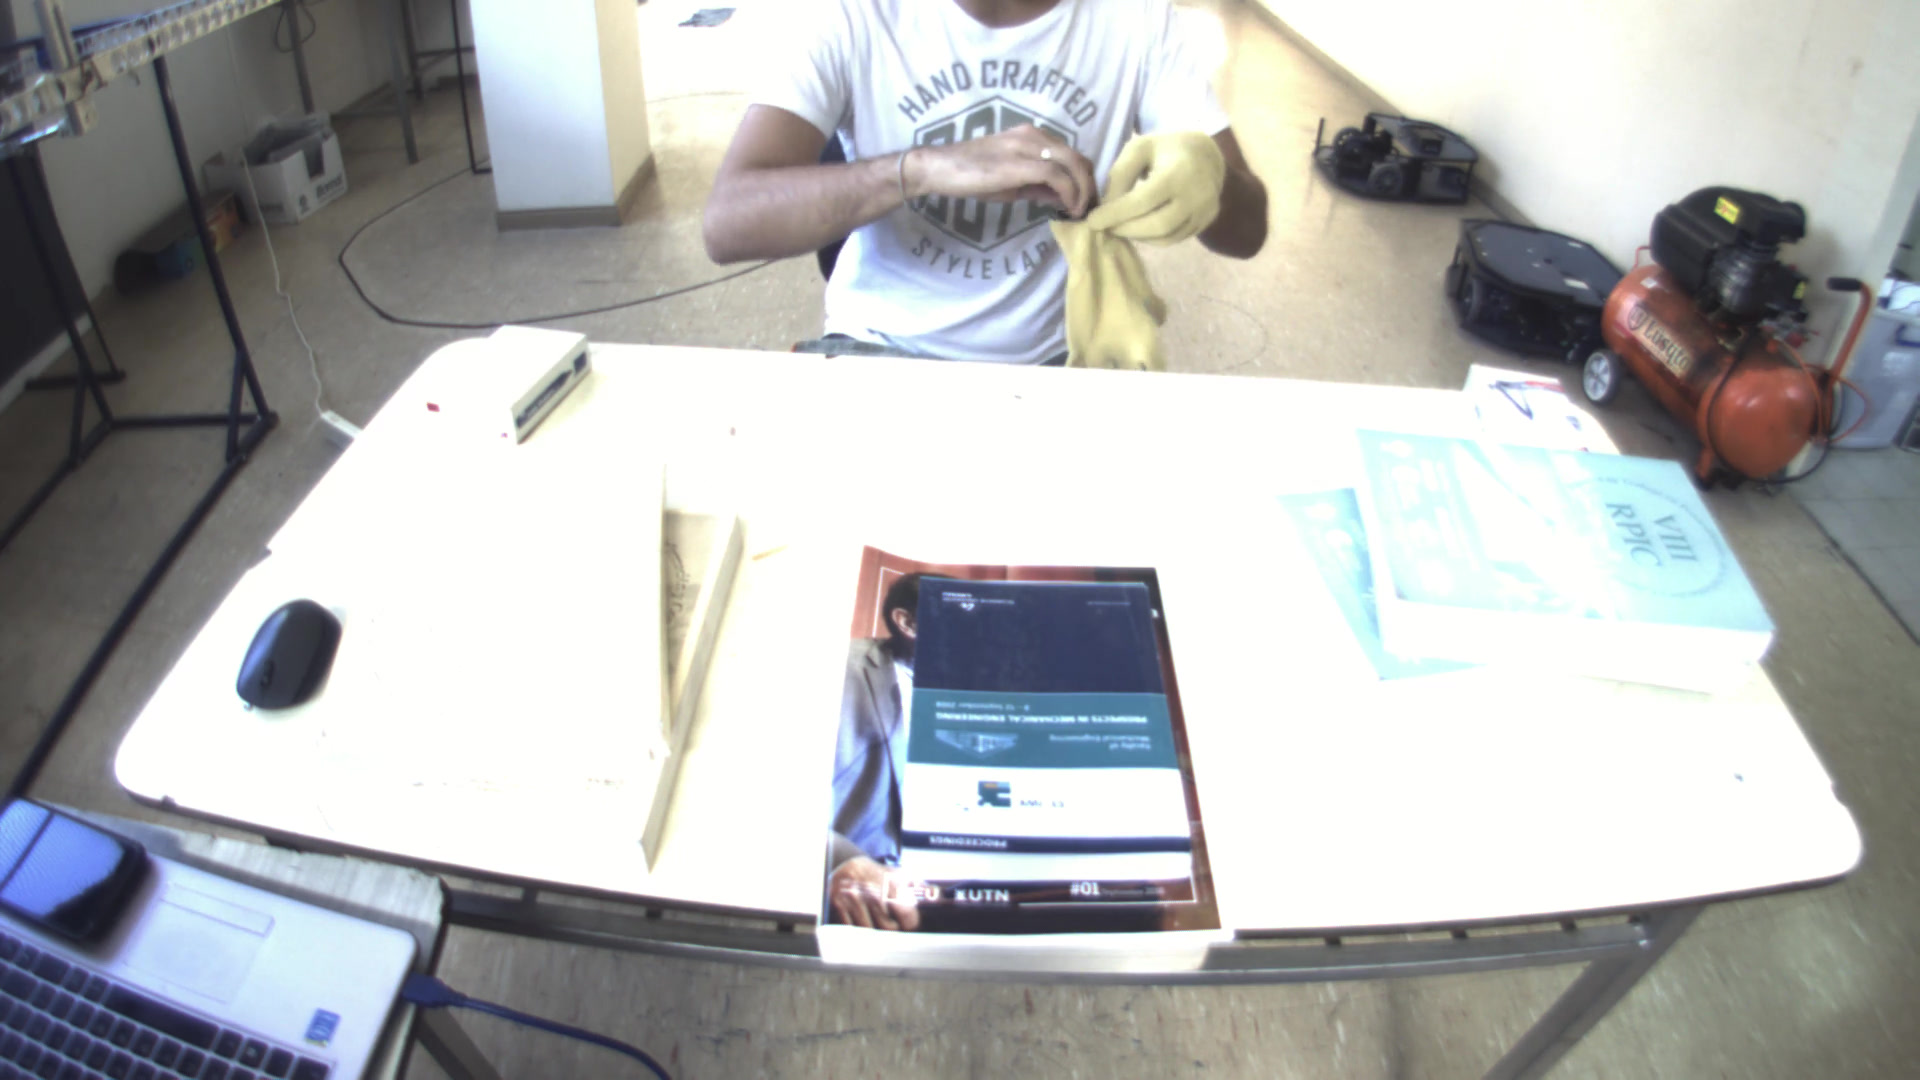hand: (914, 111, 1102, 222), (1095, 116, 1244, 244)
